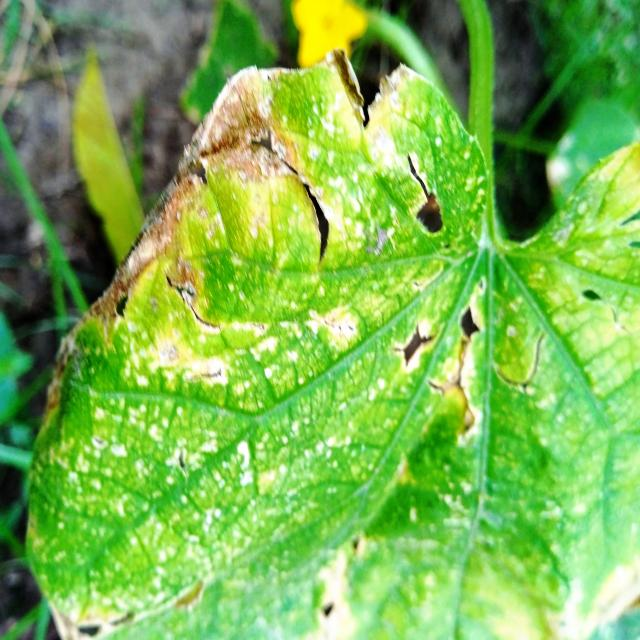Gummy-Stem-Blight: (38, 57, 301, 438)
